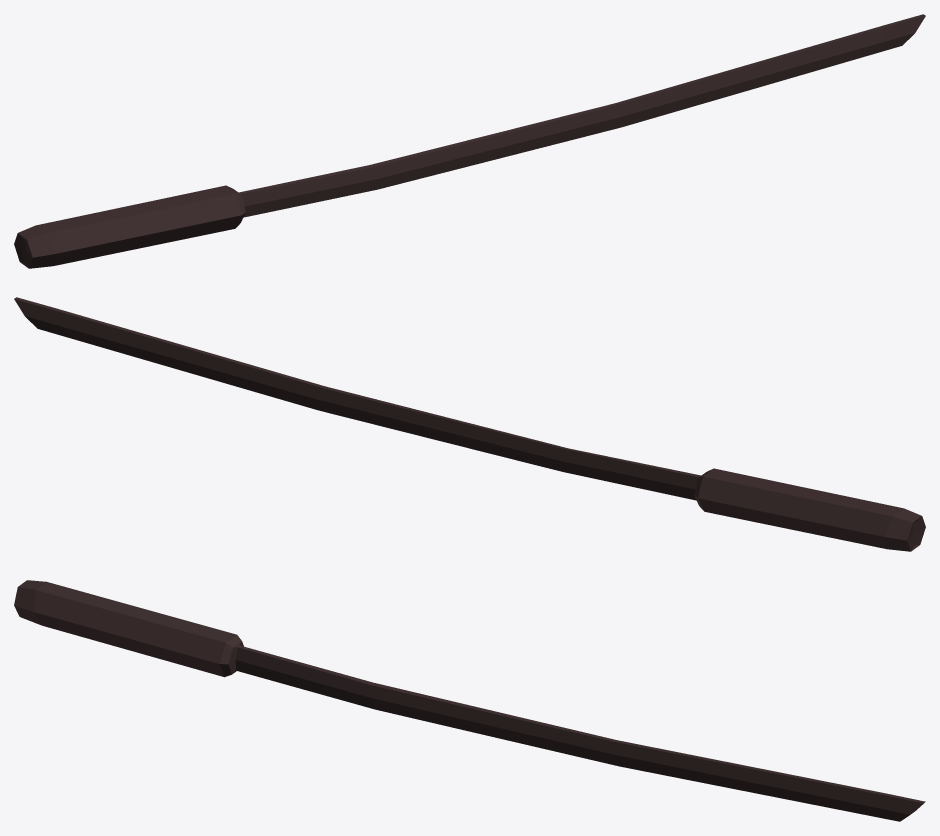
Rendered from Wooden_Sword_2.fbx.
3 renders of one model, top to bottom at view 1: azimuth 30°, elevation 25°; view 2: azimuth 150°, elevation 25°; view 3: azimuth 330°, elevation 25°, orthographic.
Parts seen in each view (by area): view 1: Bokuto.002; view 2: Bokuto.002; view 3: Bokuto.002.
Part boxes in pixels (x1,y1,x2,y2): Bokuto.002: (14,14,925,268); Bokuto.002: (14,297,925,551); Bokuto.002: (14,580,925,821).
Bounding box in the file's own units: 136 × 5.96 × 5.82.
